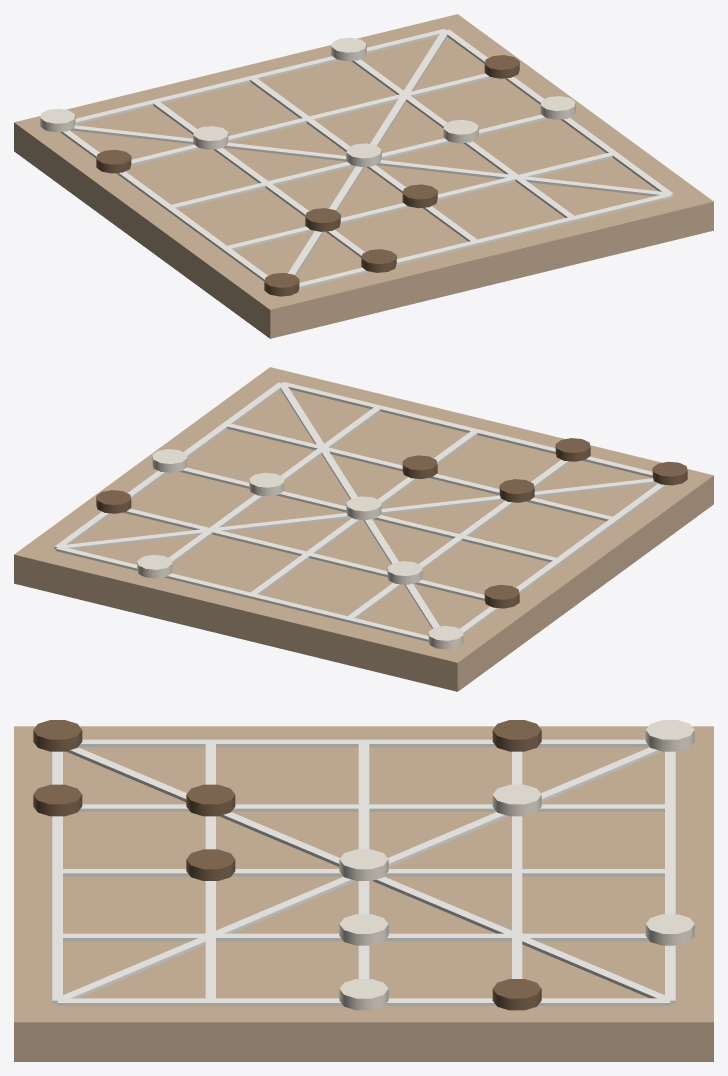
File: Damdaman_Board.fbx
3 renders of one model, top to bottom at view 1: azimuth 30°, elevation 25°; view 2: azimuth 150°, elevation 25°; view 3: azimuth 270°, elevation 25°, orthographic. The views are drawn at different scales.
Visible parts, largest first — view 1: Damdaman_Board; view 2: Damdaman_Board; view 3: Damdaman_Board.
Part boxes in pixels (bbox=[...]): Damdaman_Board: bbox=[14, 14, 713, 338]; Damdaman_Board: bbox=[14, 367, 713, 691]; Damdaman_Board: bbox=[14, 720, 713, 1061].
Size of the model in its own units: 0.8 by 0.069 by 0.8.
